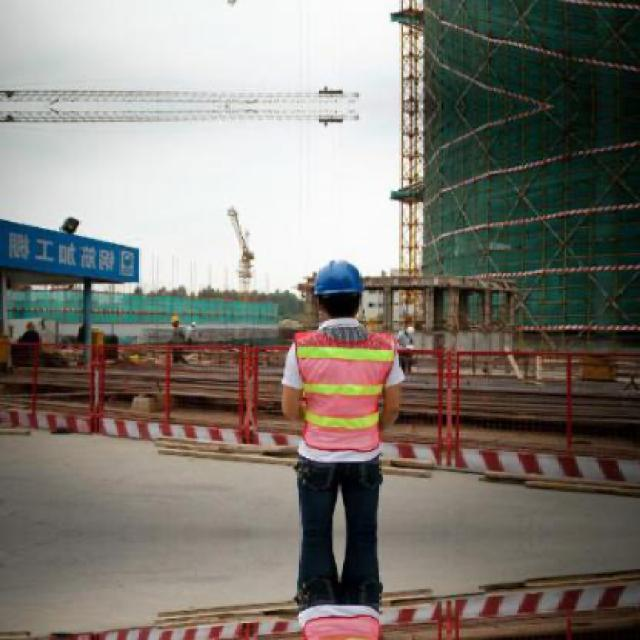con casco: (280, 249, 382, 373)
